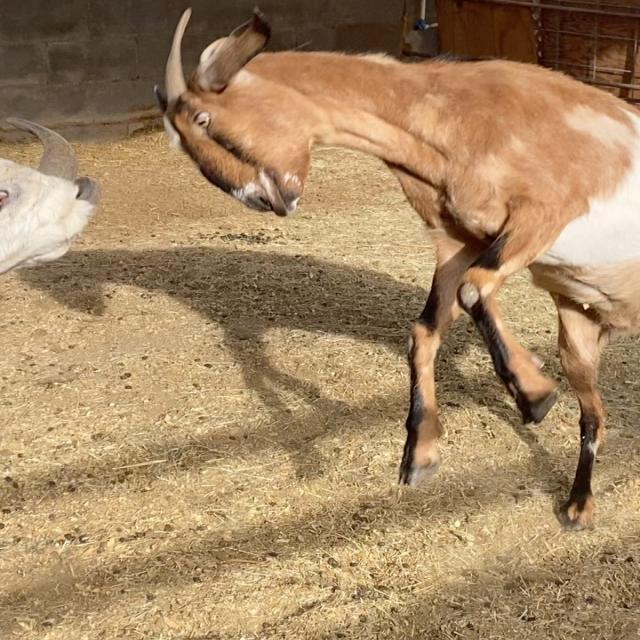goat: (145, 1, 640, 545)
